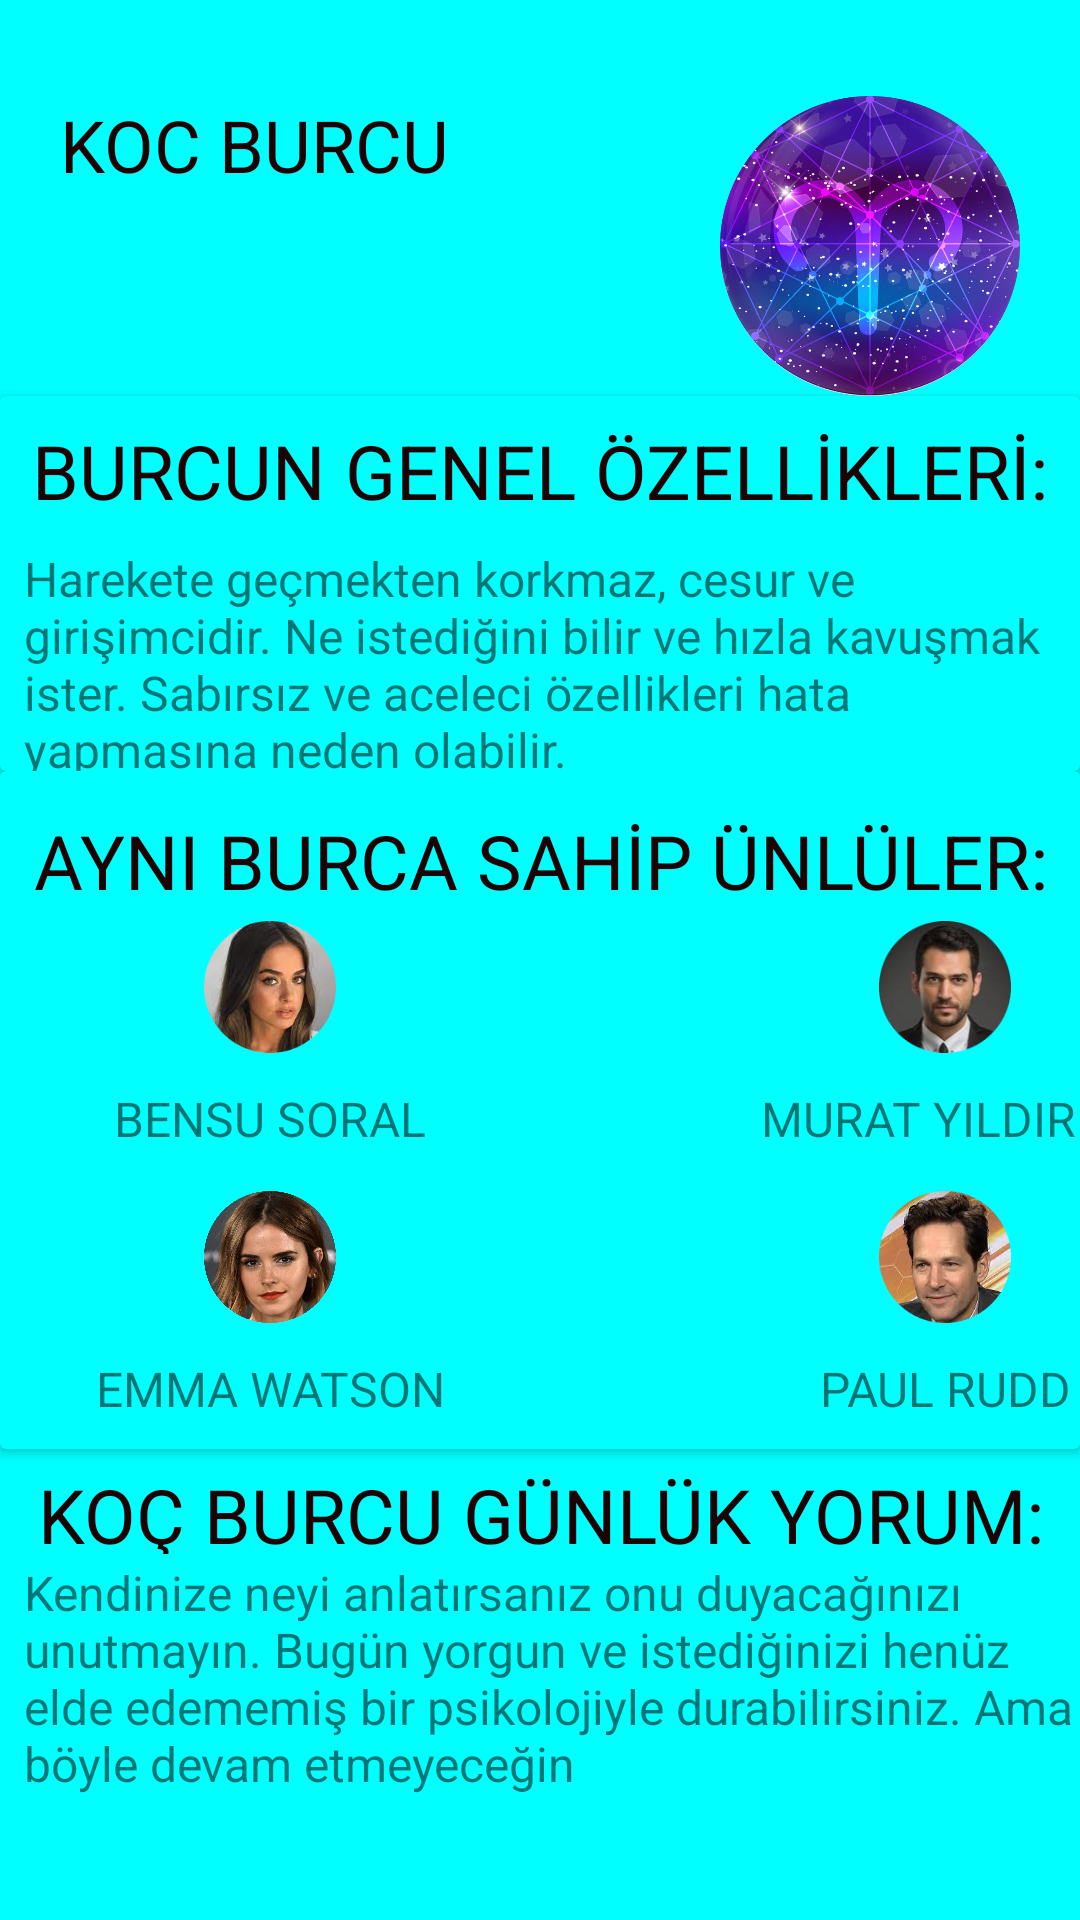

Point at icon controls on the screen. Image size 1080px×1920px, points as (x,y).
koc: (870,246)
